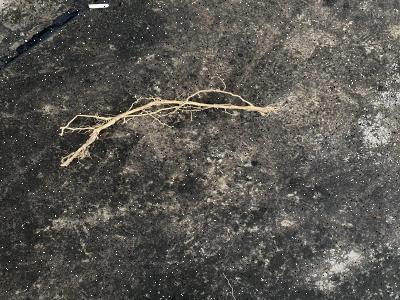Root: (59, 88, 283, 166)
